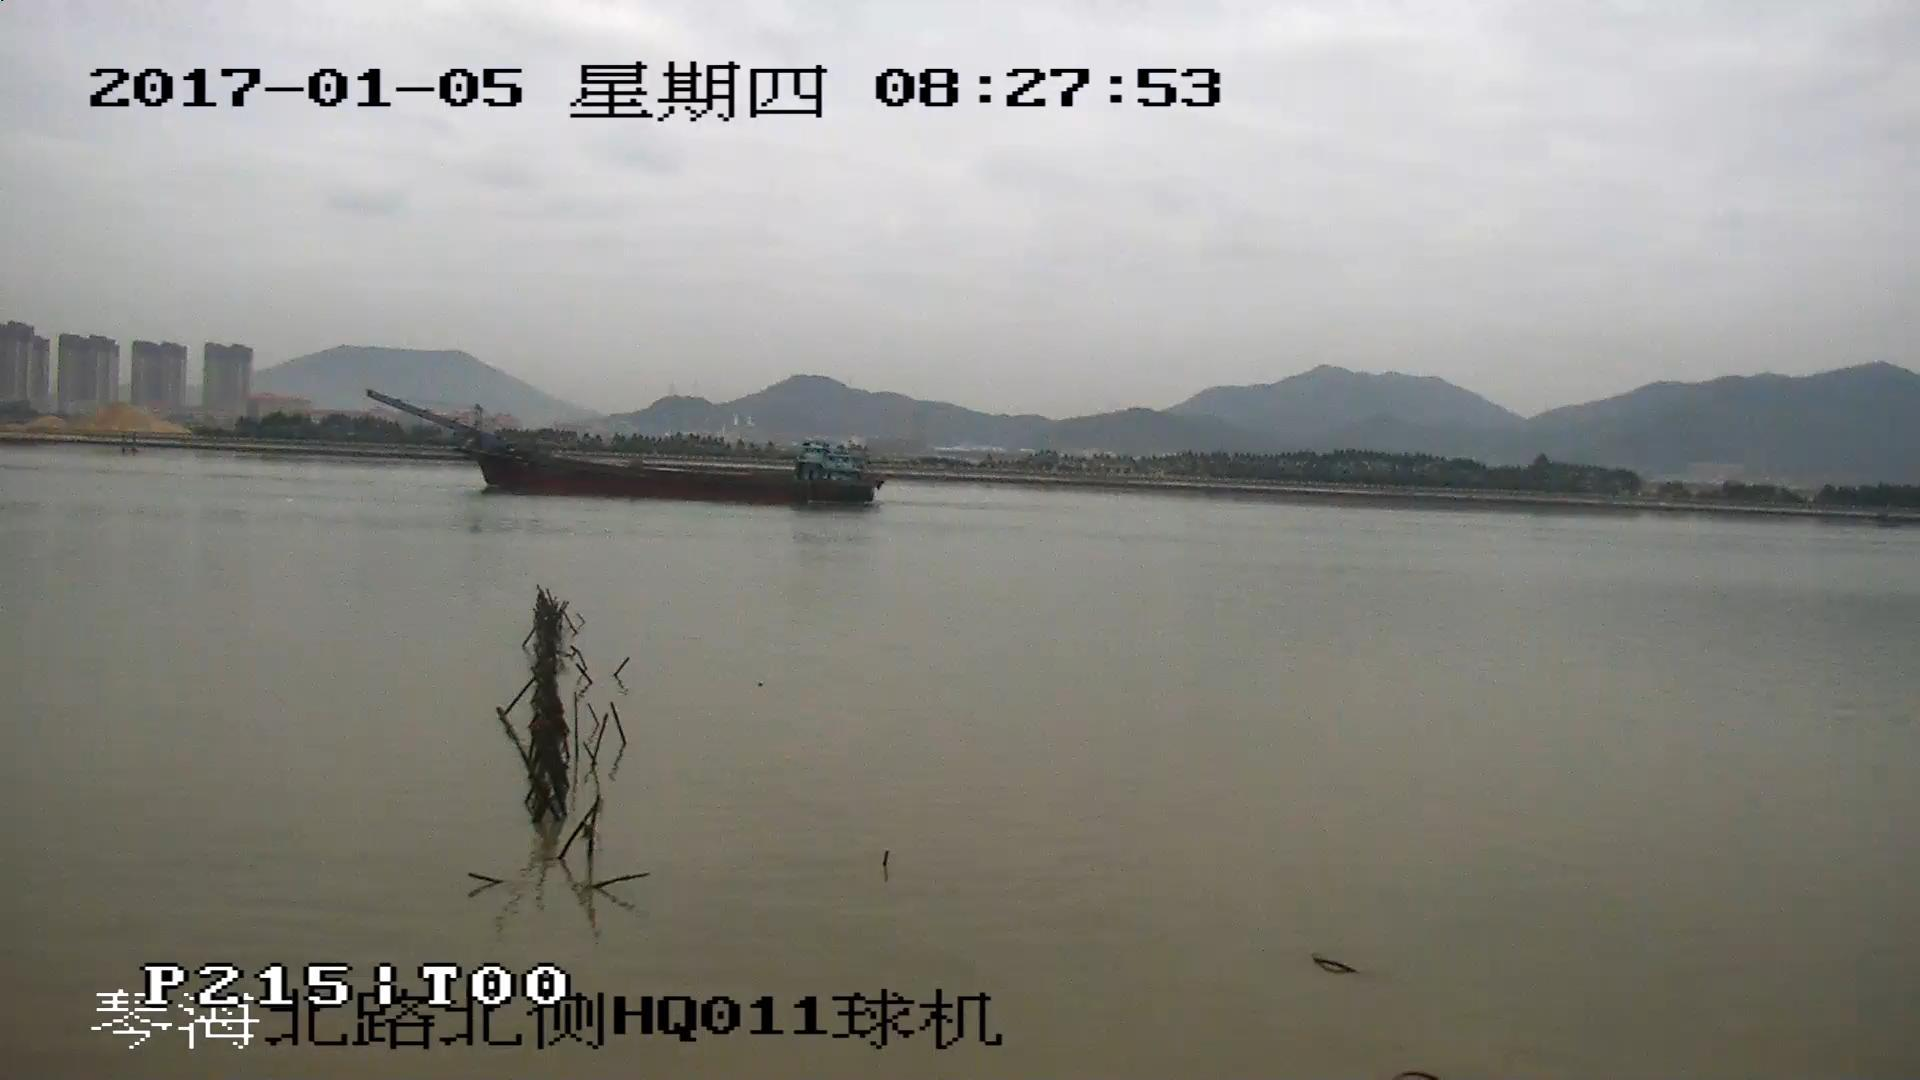Ship: (369, 393, 877, 506)
